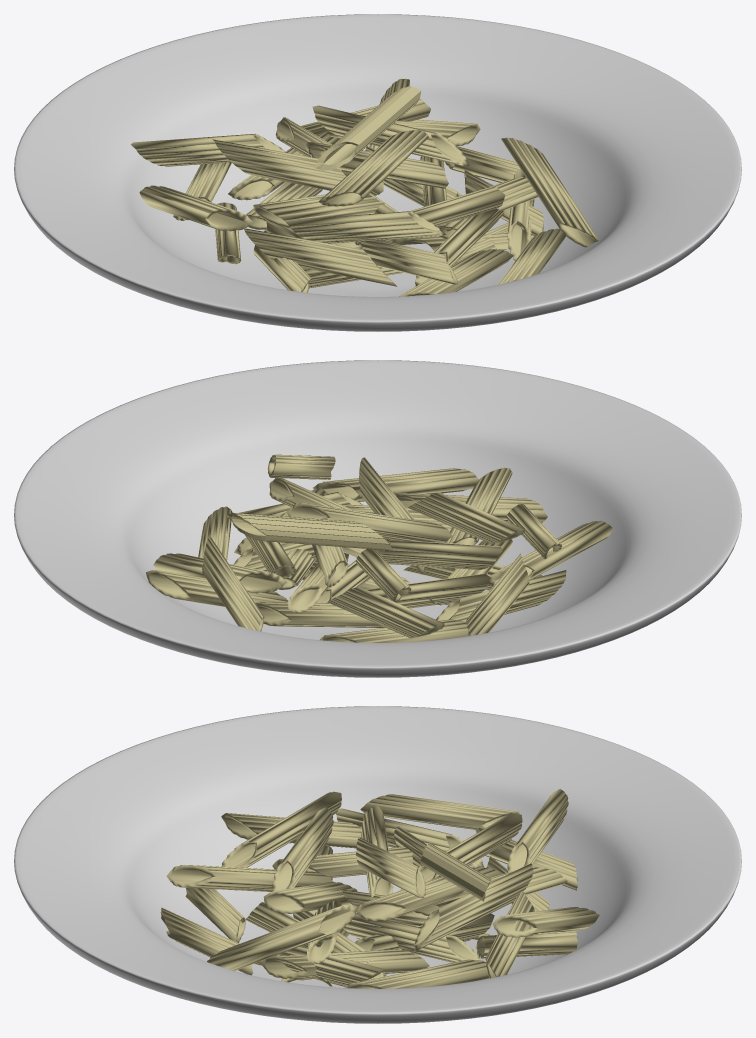
Rendered from pasta.fbx.
The picture shows the model from 3 angles, top to bottom: view 1: azimuth 30°, elevation 25°; view 2: azimuth 150°, elevation 25°; view 3: azimuth 270°, elevation 25°; orthographic projection.
Visible parts, largest first — view 1: Plate, Pasta, Singla Pasta; view 2: Plate, Pasta, Singla Pasta; view 3: Plate, Pasta, Singla Pasta.
Boxes of the visible parts, box(x1,y1,x2,y2) form: Plate: box(14, 14, 741, 331); Pasta: box(131, 78, 599, 296); Singla Pasta: box(315, 86, 420, 170); Plate: box(14, 360, 741, 677); Pasta: box(146, 454, 612, 642); Singla Pasta: box(228, 512, 392, 550); Plate: box(14, 706, 741, 1023); Pasta: box(160, 789, 599, 988); Singla Pasta: box(420, 842, 491, 901).
Size of the model in its own units: 1.16 by 0.2282 by 1.16.
